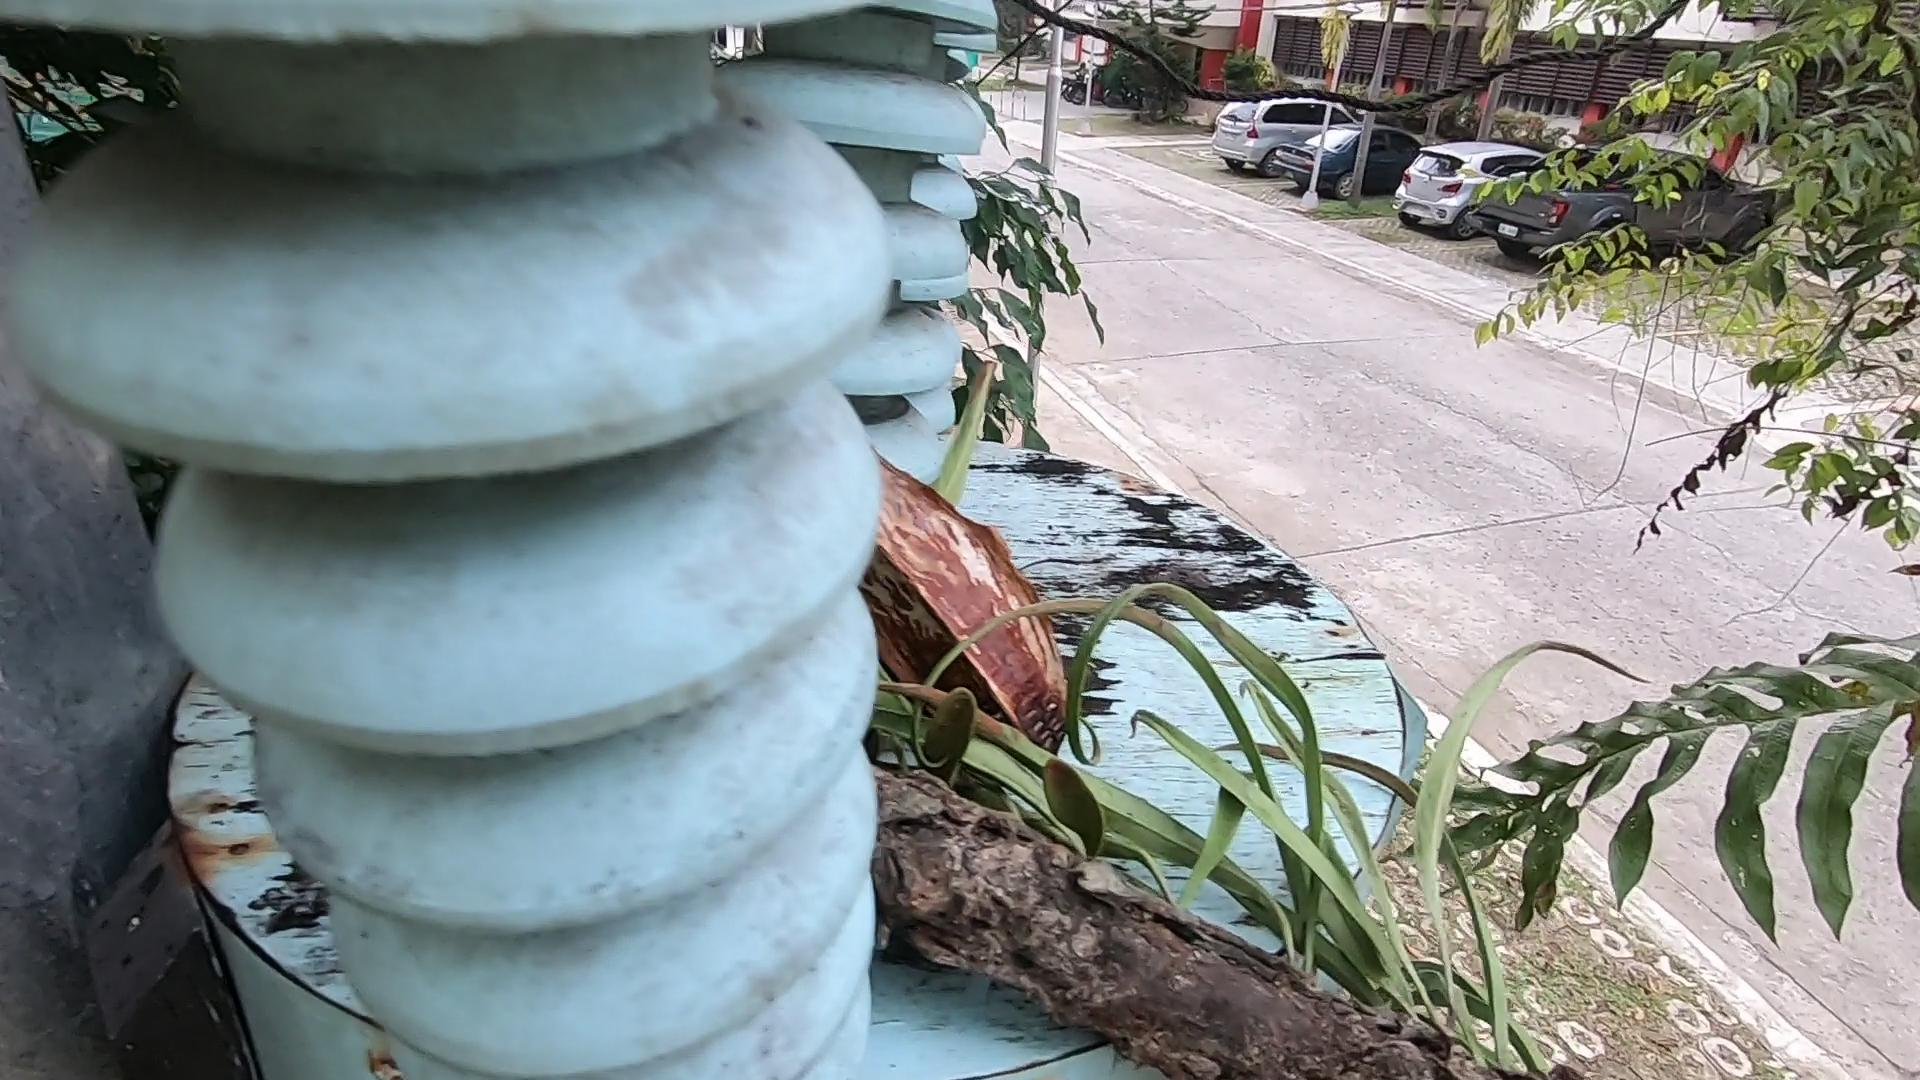branch with leaves: (891, 773, 1390, 1080)
mahogany fruit: (711, 295, 1311, 757)
